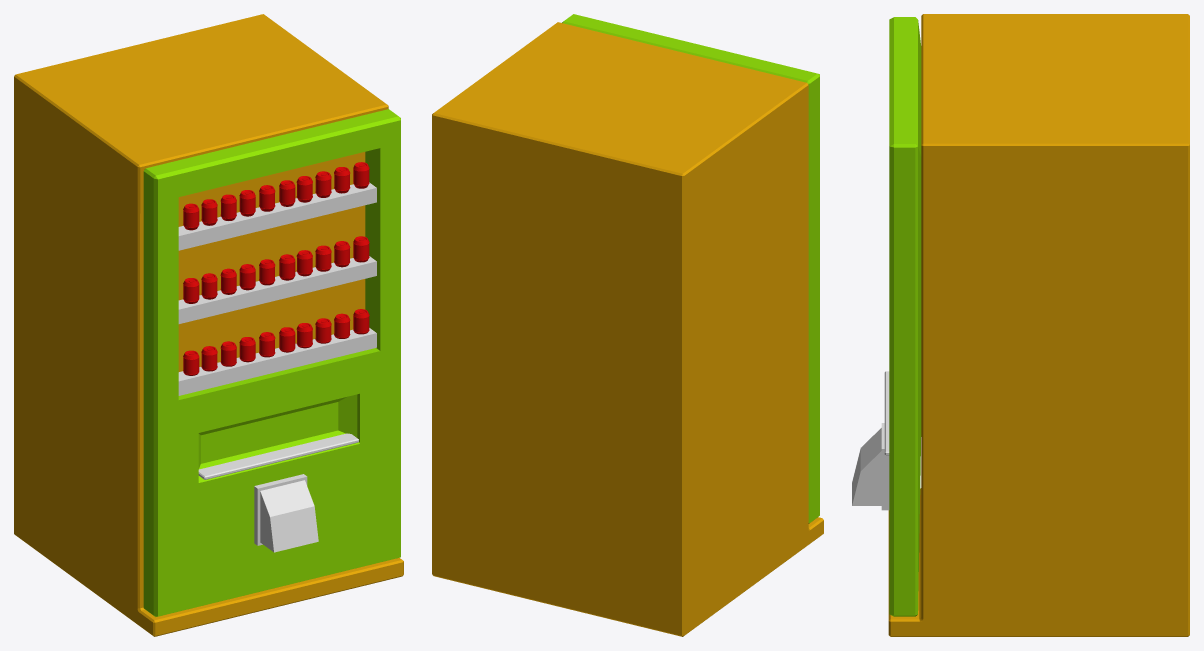
The model's file is distributeur.fbx.
3 renders of one model, left to right at view 1: azimuth 30°, elevation 25°; view 2: azimuth 150°, elevation 25°; view 3: azimuth 270°, elevation 25°, orthographic. The views are drawn at different scales.
Parts seen in each view (by area): view 1: pCube8; view 2: pCube8; view 3: pCube8.
Part boxes in pixels (bbox=[...]): pCube8: bbox=[14, 14, 403, 636]; pCube8: bbox=[432, 14, 823, 636]; pCube8: bbox=[852, 14, 1189, 636].
Size of the model in its own units: 2.34 by 4.1 by 2.54.
